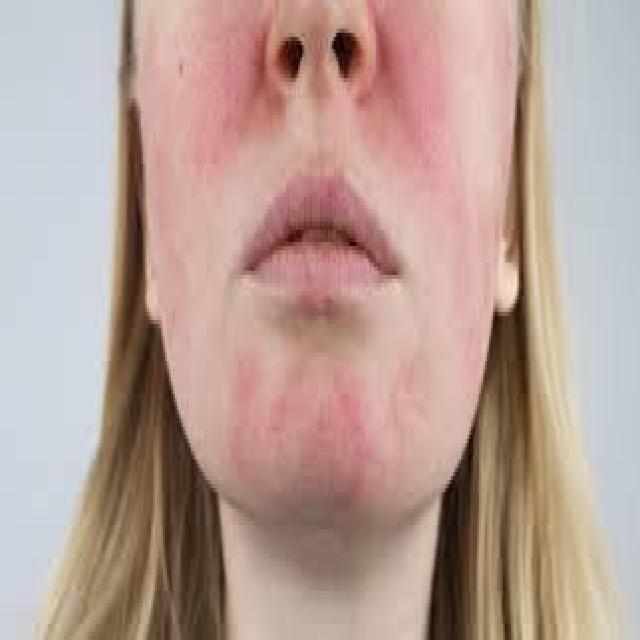Eczema: (225, 357, 408, 484), (182, 27, 260, 158), (387, 20, 449, 170)
